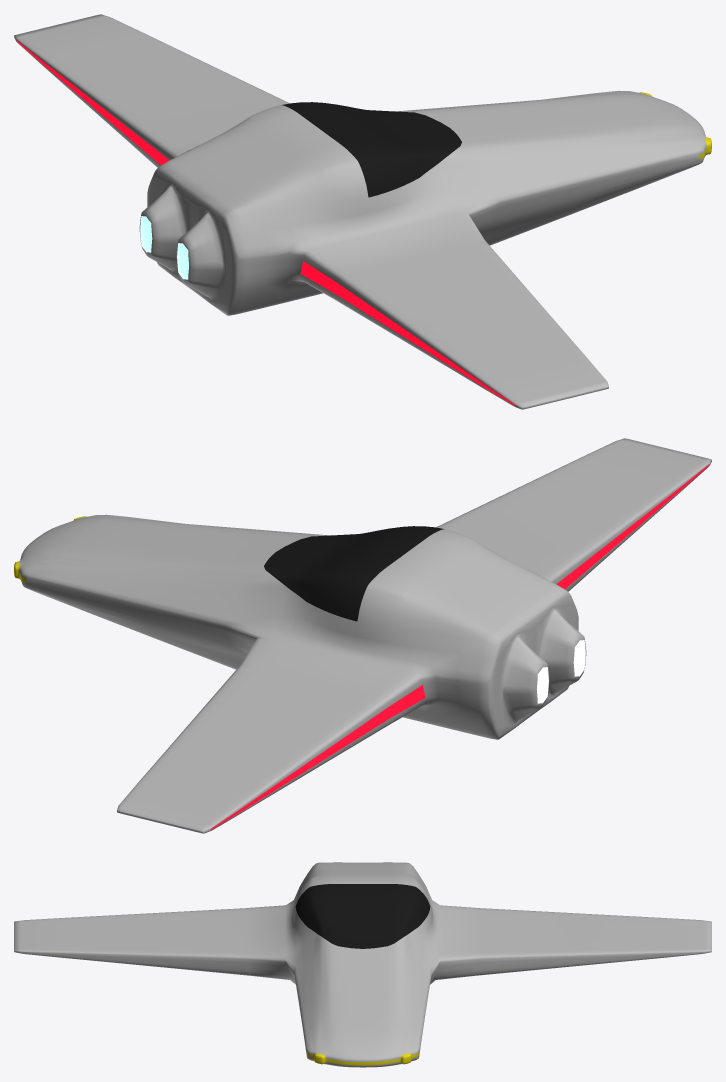
File: Spaceship2.fbx
3 views of the same model, one above another, from view 1: azimuth 30°, elevation 25°; view 2: azimuth 150°, elevation 25°; view 3: azimuth 270°, elevation 25° (orthographic). The views are drawn at different scales.
Visible parts, largest first — view 1: Ship; view 2: Ship; view 3: Ship.
Part boxes in pixels (x1=…): Ship: x1=14, y1=14, x2=711, y2=409; Ship: x1=14, y1=438, x2=711, y2=833; Ship: x1=14, y1=862, x2=711, y2=1067.
Size of the model in its own units: 659 by 158 by 1103.
